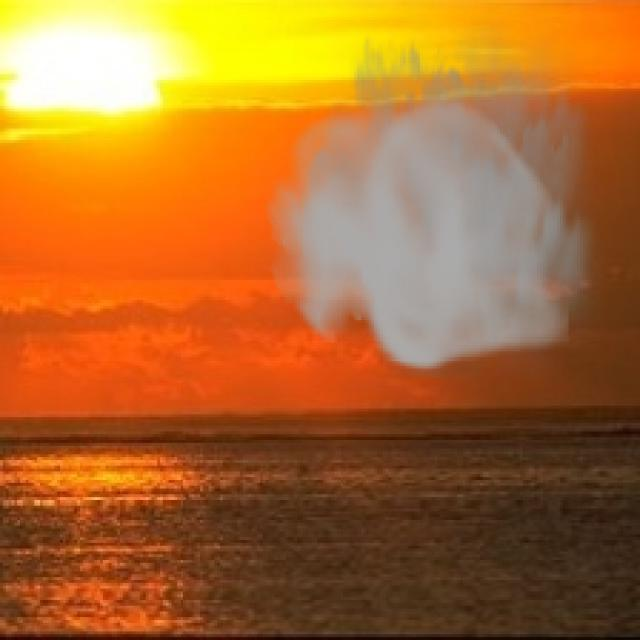smoke: (266, 0, 614, 377)
